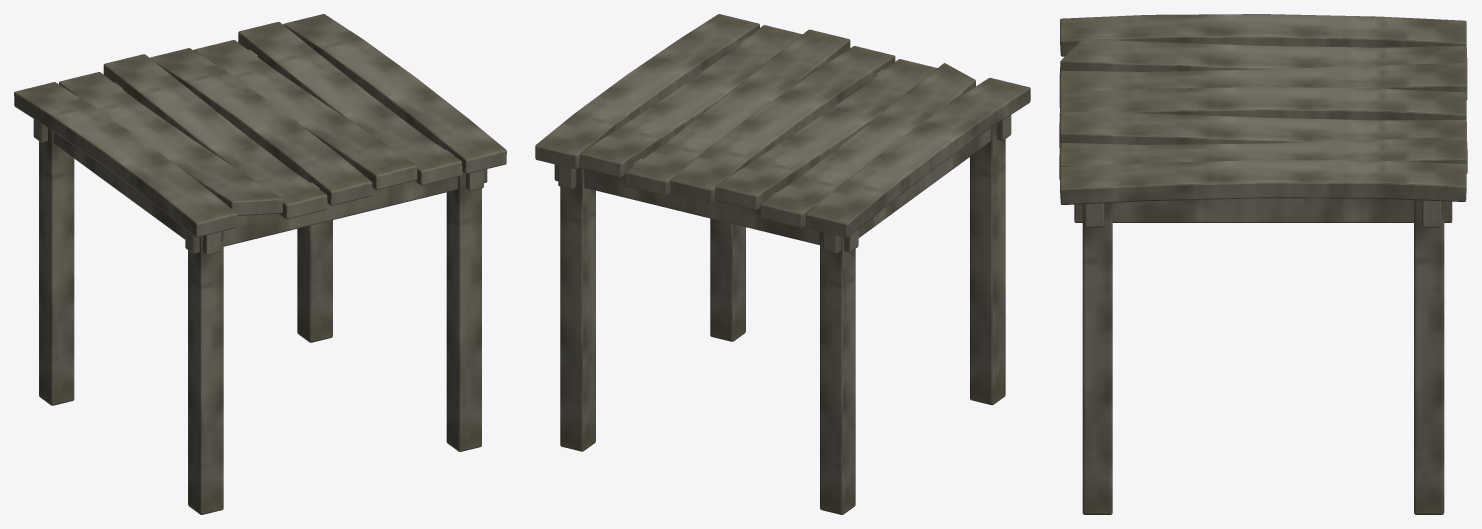
File: by_table.glb
3 views of the same model, side by side, from view 1: azimuth 30°, elevation 25°; view 2: azimuth 150°, elevation 25°; view 3: azimuth 270°, elevation 25° (orthographic). The views are drawn at different scales.
Parts seen in each view (by area): view 1: by_table; view 2: by_table; view 3: by_table.
Part boxes in pixels (x1,y1,x2,y2): by_table: [14, 14, 506, 514]; by_table: [535, 14, 1030, 514]; by_table: [1059, 14, 1467, 514].
Bounding box in the file's own units: 0.686 × 0.649 × 0.7021.
1 material, 1 textured.
